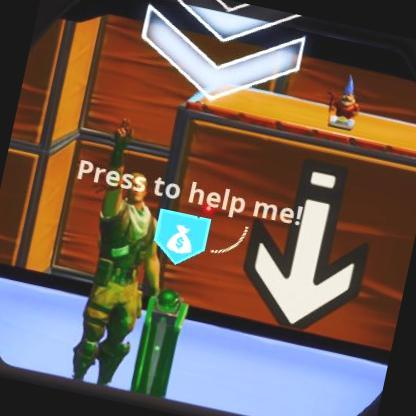person: (69, 161, 174, 374)
